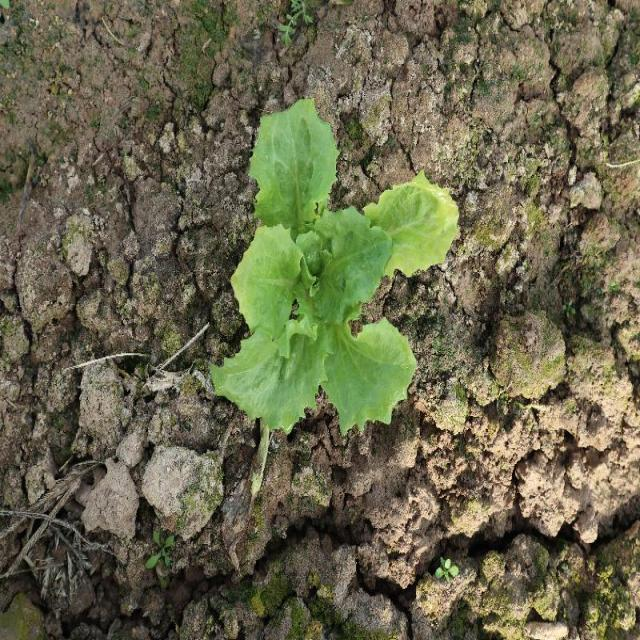crop: (205, 94, 464, 440)
